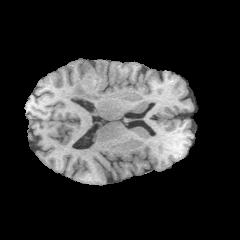glioma: (74, 62, 123, 100)
